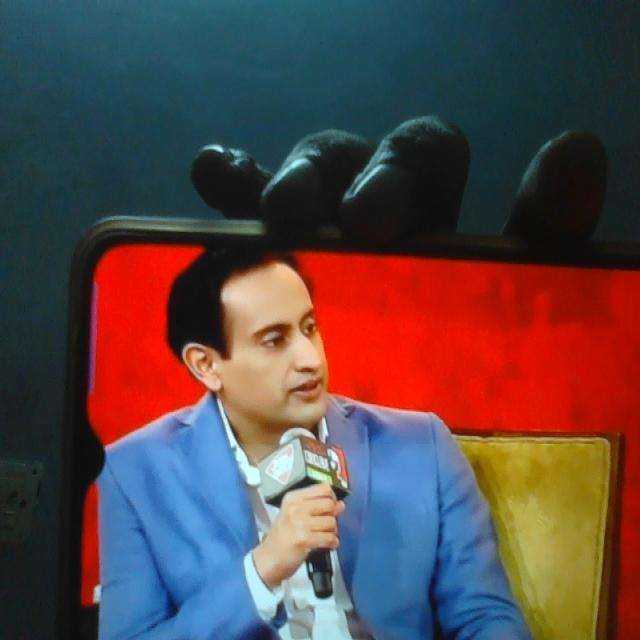fake: (202, 213, 331, 458)
